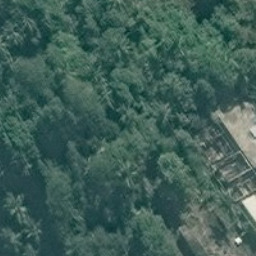buildings: (194, 111, 256, 230), (180, 225, 224, 256), (236, 234, 243, 245)
